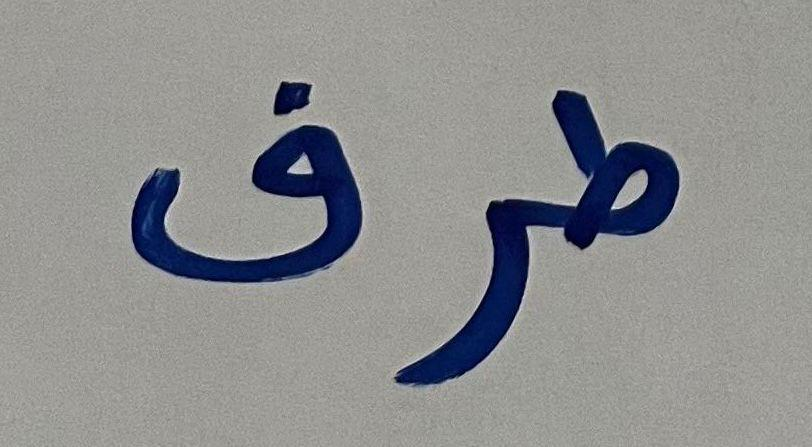feh: (105, 25, 373, 323)
reh: (377, 133, 538, 414)
tah: (542, 52, 702, 276)
